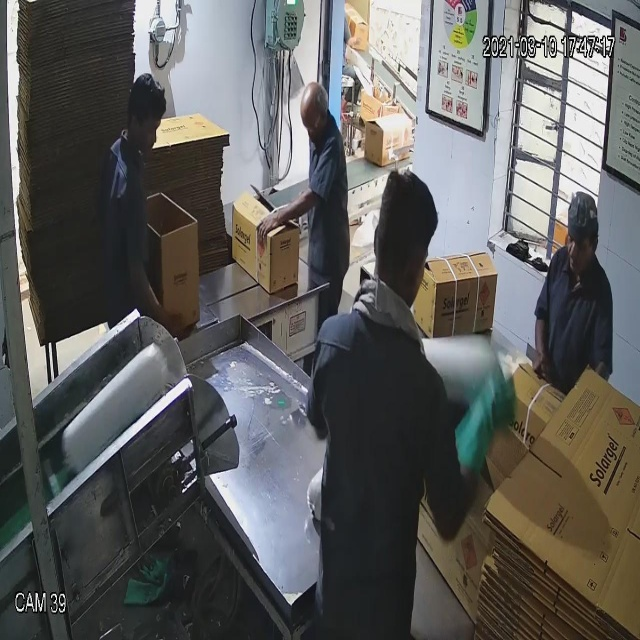Guantes: (448, 332, 518, 494)
Sin_guantes: (121, 233, 185, 335), (239, 186, 330, 248), (530, 290, 558, 398)
